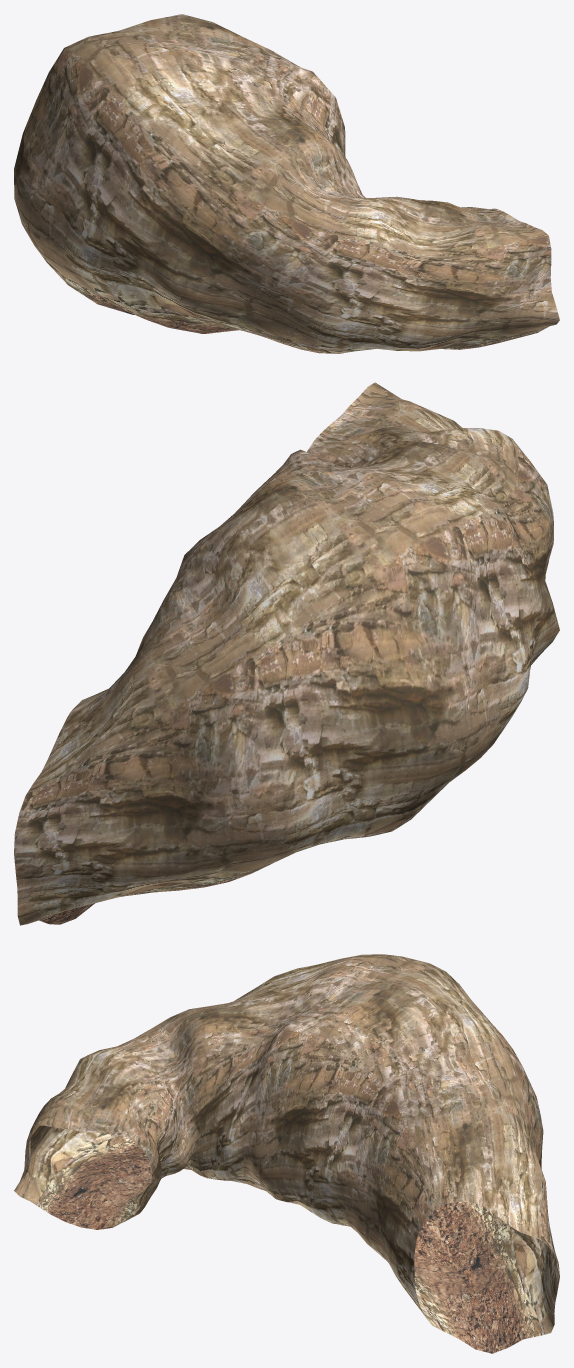
Rendered from thm_tato_cave_s01_r13_mesh_r13.fbx.
3 views of the same model, one above another, from view 1: azimuth 30°, elevation 25°; view 2: azimuth 150°, elevation 25°; view 3: azimuth 270°, elevation 25° (orthographic). The views are drawn at different scales.
Parts seen in each view (by area): view 1: mesh_node; view 2: mesh_node; view 3: mesh_node.
Part boxes in pixels (<box>): mesh_node: <box>14,14,559,353</box>; mesh_node: <box>14,382,559,925</box>; mesh_node: <box>14,954,559,1353</box>.
Size of the model in its own units: 21.5 by 24.97 by 40.
